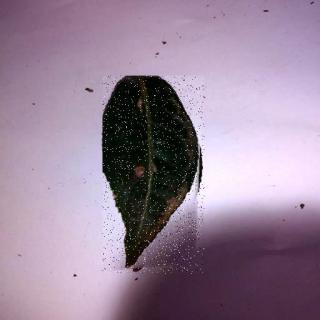Anthracnose: (104, 78, 206, 276)
